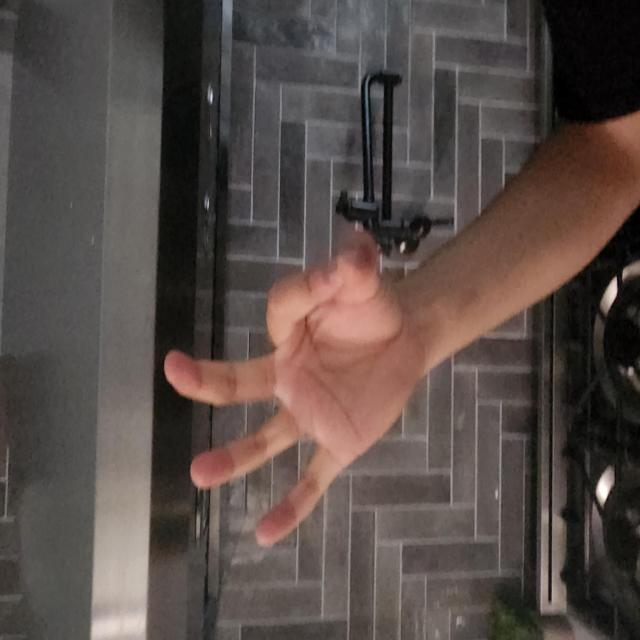F: (65, 218, 322, 570)
